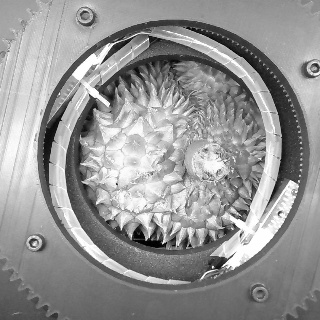base: (182, 138, 226, 185)
end: (191, 142, 231, 183)
